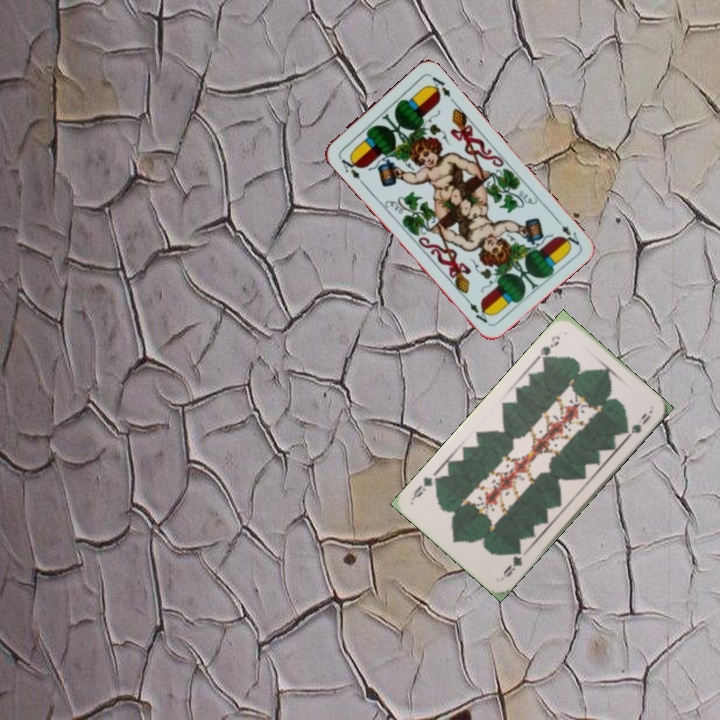EA: (551, 214, 582, 250), (335, 152, 366, 187)
G9: (533, 331, 563, 365), (499, 545, 525, 580)
